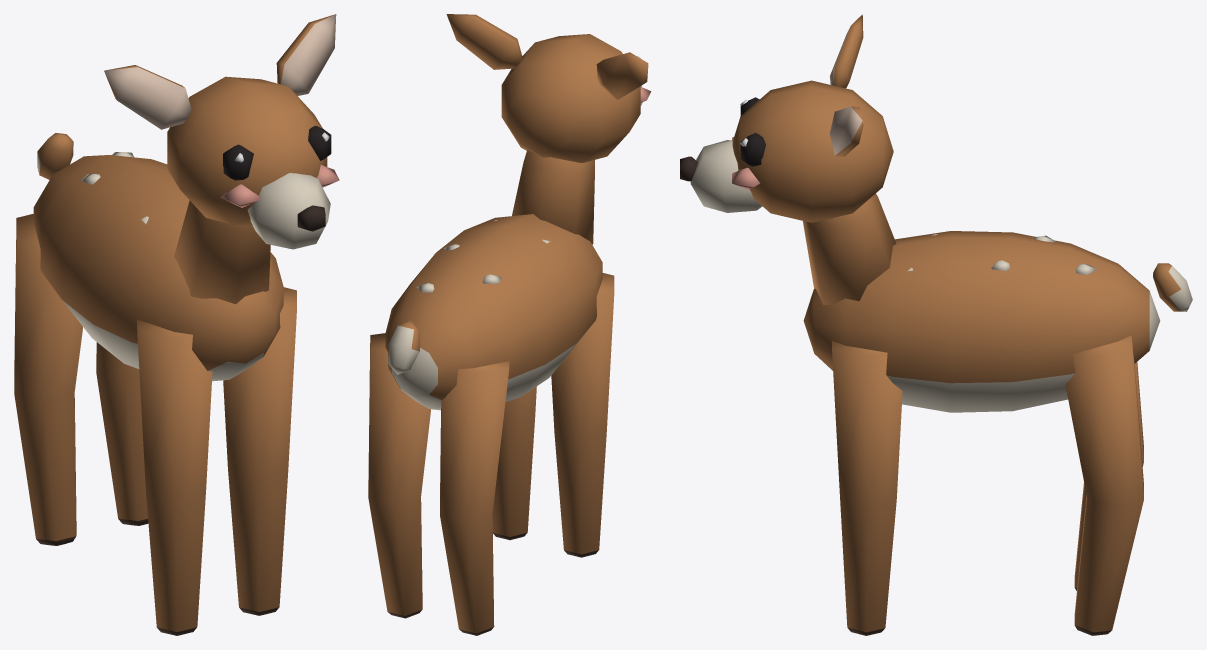
The model's file is fawn.glb.
The picture shows the model from 3 angles, left to right: view 1: azimuth 30°, elevation 25°; view 2: azimuth 150°, elevation 25°; view 3: azimuth 270°, elevation 25°; orthographic projection. The views are drawn at different scales.
Parts seen in each view (by area): view 1: head, body, leg_fr, leg_br, leg_fl, leg_bl, head_body_nh, tail; view 2: body, head, leg_br, leg_bl, leg_fr, leg_fl, tail; view 3: body, head, leg_bl, leg_fl, tail, head_body_nh, leg_br.
Part boxes in pixels (x1,y1,x2,y2): head: (104,14,336,304); body: (33,152,283,381); leg_fr: (137,319,212,635); leg_br: (14,214,82,545); leg_fl: (223,287,296,615); leg_bl: (96,342,148,525); head_body_nh: (221,125,339,207); tail: (37,133,73,179); body: (385,214,602,410); head: (446,14,648,244); leg_br: (440,361,509,635); leg_bl: (368,333,430,618); leg_fr: (551,273,614,557); leg_fl: (492,386,536,540); tail: (388,320,419,374); body: (803,231,1160,412); head: (680,14,896,305); leg_bl: (1065,335,1143,635); leg_fl: (832,341,902,635); tail: (1153,263,1192,311); head_body_nh: (732,97,765,189); leg_br: (1074,362,1143,590).
Bounding box in the file's own units: 0.3855 × 0.9243 × 0.7842.
